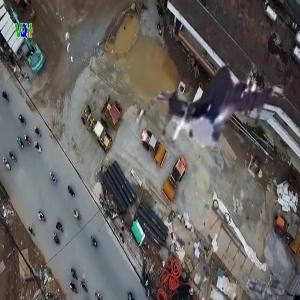drone: (148, 16, 297, 165)
